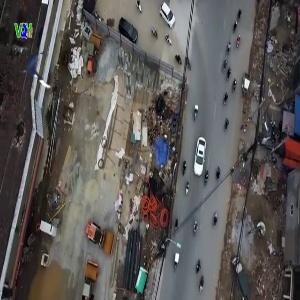drone: (17, 47, 61, 91)
